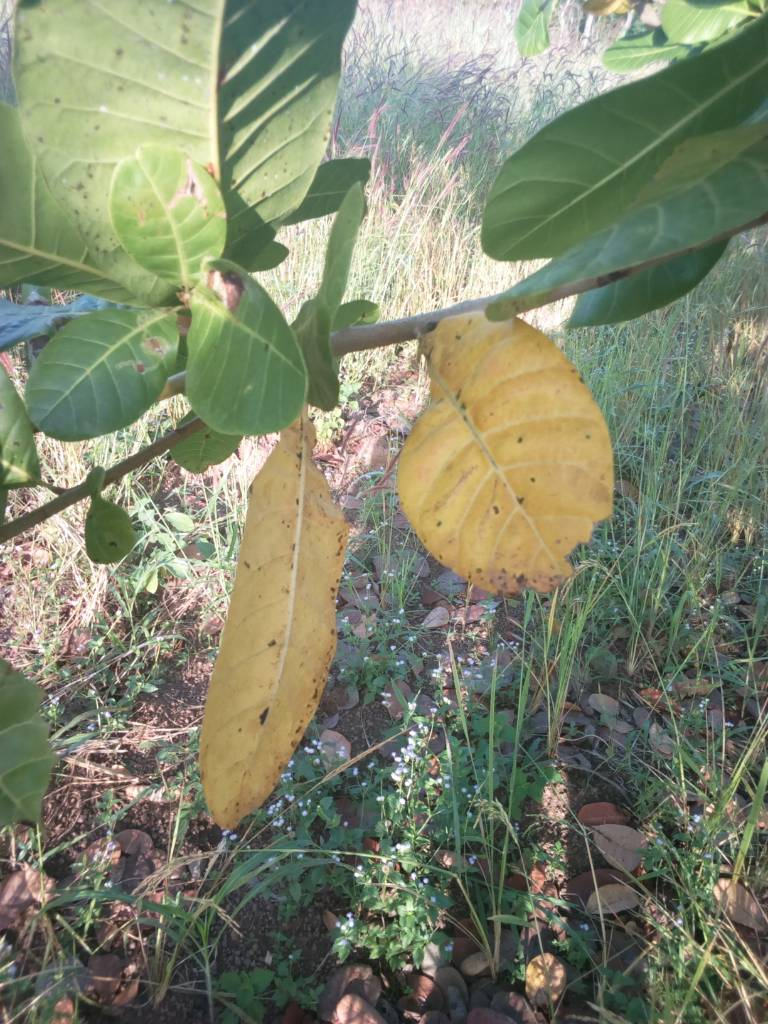Anthracnose: (16, 1, 346, 296), (190, 411, 349, 836), (390, 310, 619, 592)
